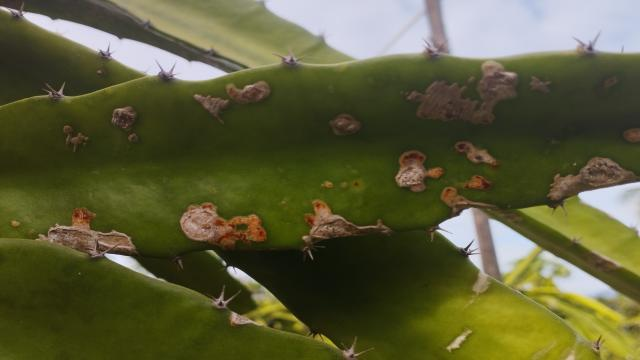stemcanker: (597, 73, 627, 95), (618, 124, 640, 145), (318, 175, 340, 193), (8, 216, 24, 232), (126, 132, 143, 146)
